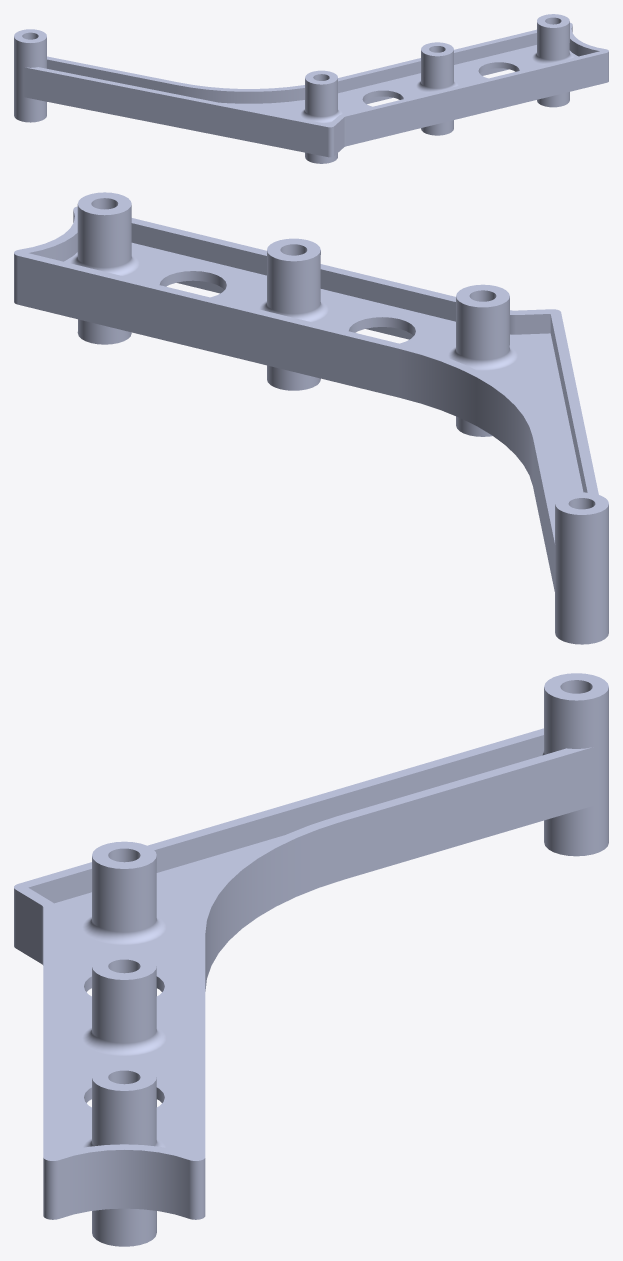
Rendered from Inlane Williams, Plastic.fbx.
The picture shows the model from 3 angles, top to bottom: view 1: azimuth 30°, elevation 25°; view 2: azimuth 150°, elevation 25°; view 3: azimuth 270°, elevation 25°; orthographic projection. The views are drawn at different scales.
Parts seen in each view (by area): view 1: Inlane Williams, Plastic; view 2: Inlane Williams, Plastic; view 3: Inlane Williams, Plastic.
Part boxes in pixels (x1,y1,x2,y2): Inlane Williams, Plastic: [14, 14, 608, 163]; Inlane Williams, Plastic: [14, 192, 608, 644]; Inlane Williams, Plastic: [14, 673, 608, 1246].
Bounding box in the file's own units: 16.29 × 2.69 × 9.32.
